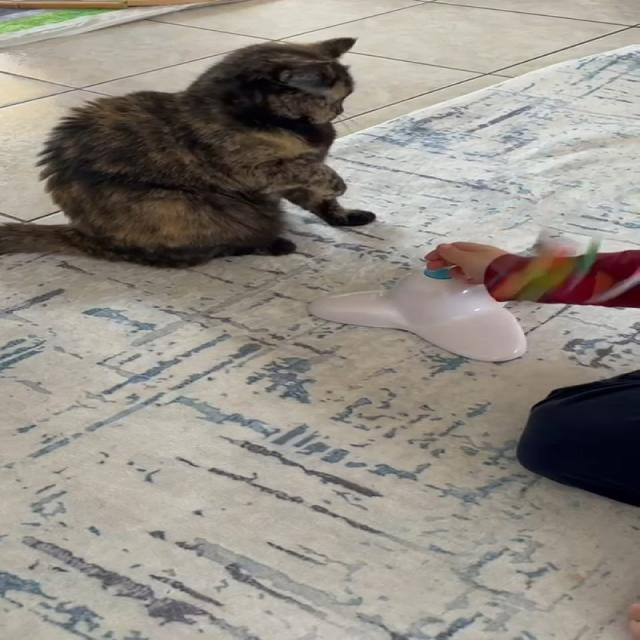authorized: (0, 35, 376, 268)
